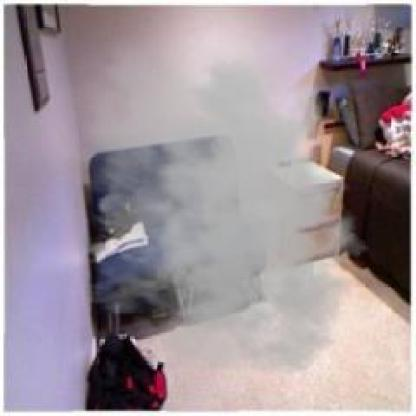Smoke: (44, 25, 379, 377)
